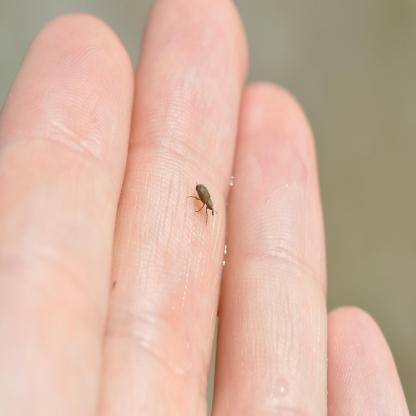rice-bug: (192, 180, 218, 224)
